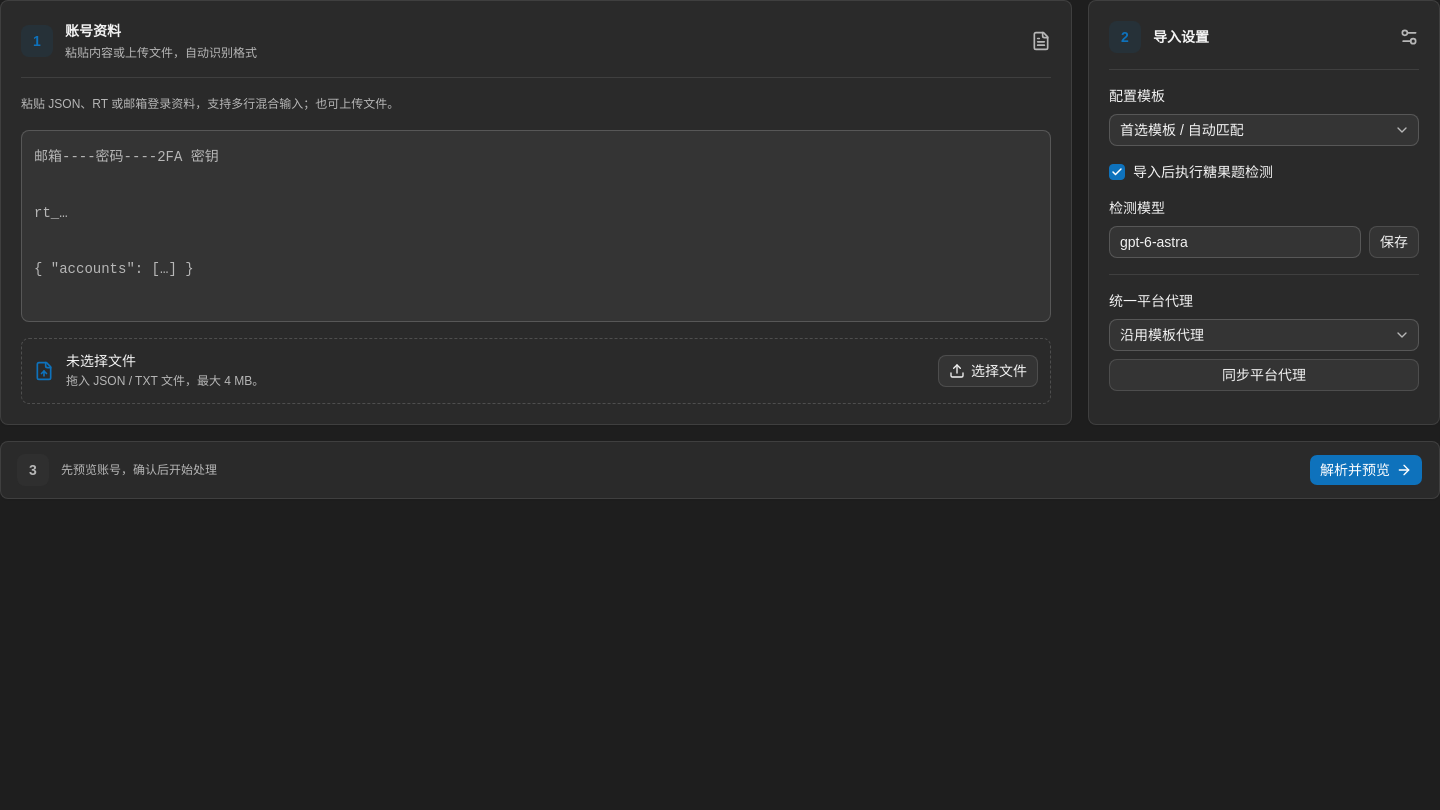
Test: 关闭糖果题检测后预览说明直接开启调度并提交对应设置
Click the checkbox named "导入后执行糖果题检测": (1117, 172) [1109, 164, 1125, 180]
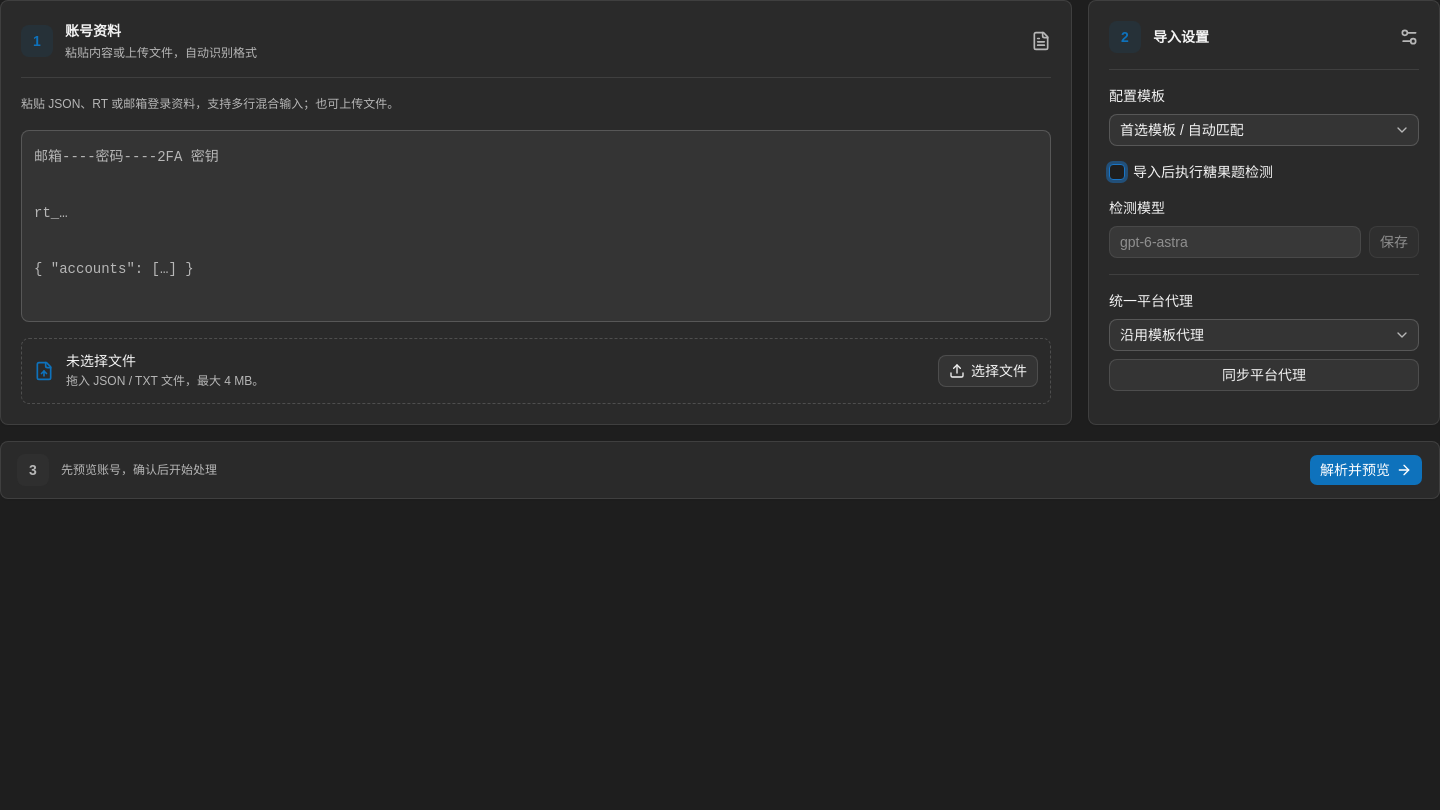
In the text box labelled "账号资料": (536, 226) [21, 130, 1051, 322], type "rt_input"
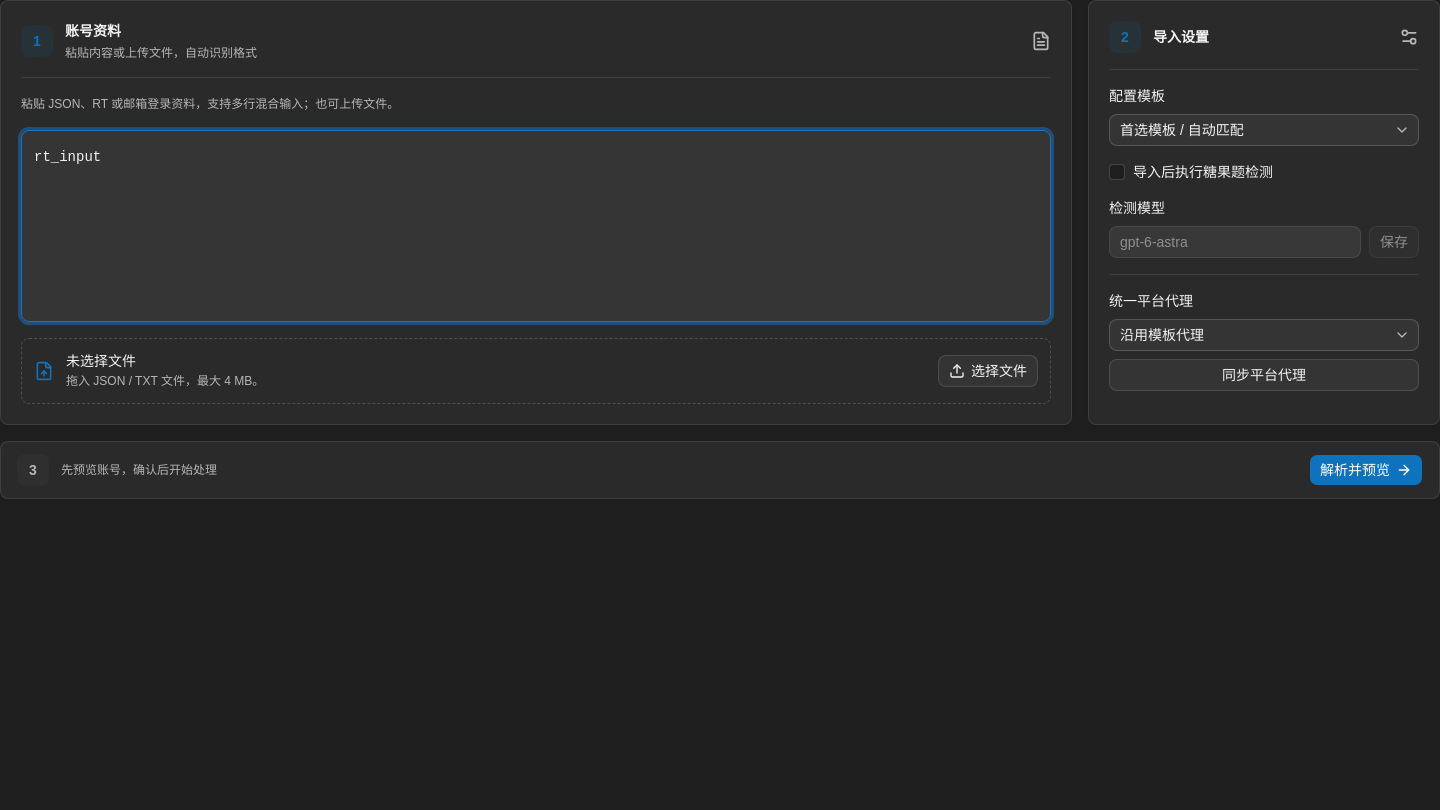
Click the button "解析并预览": (1366, 470) [1309, 454, 1423, 486]
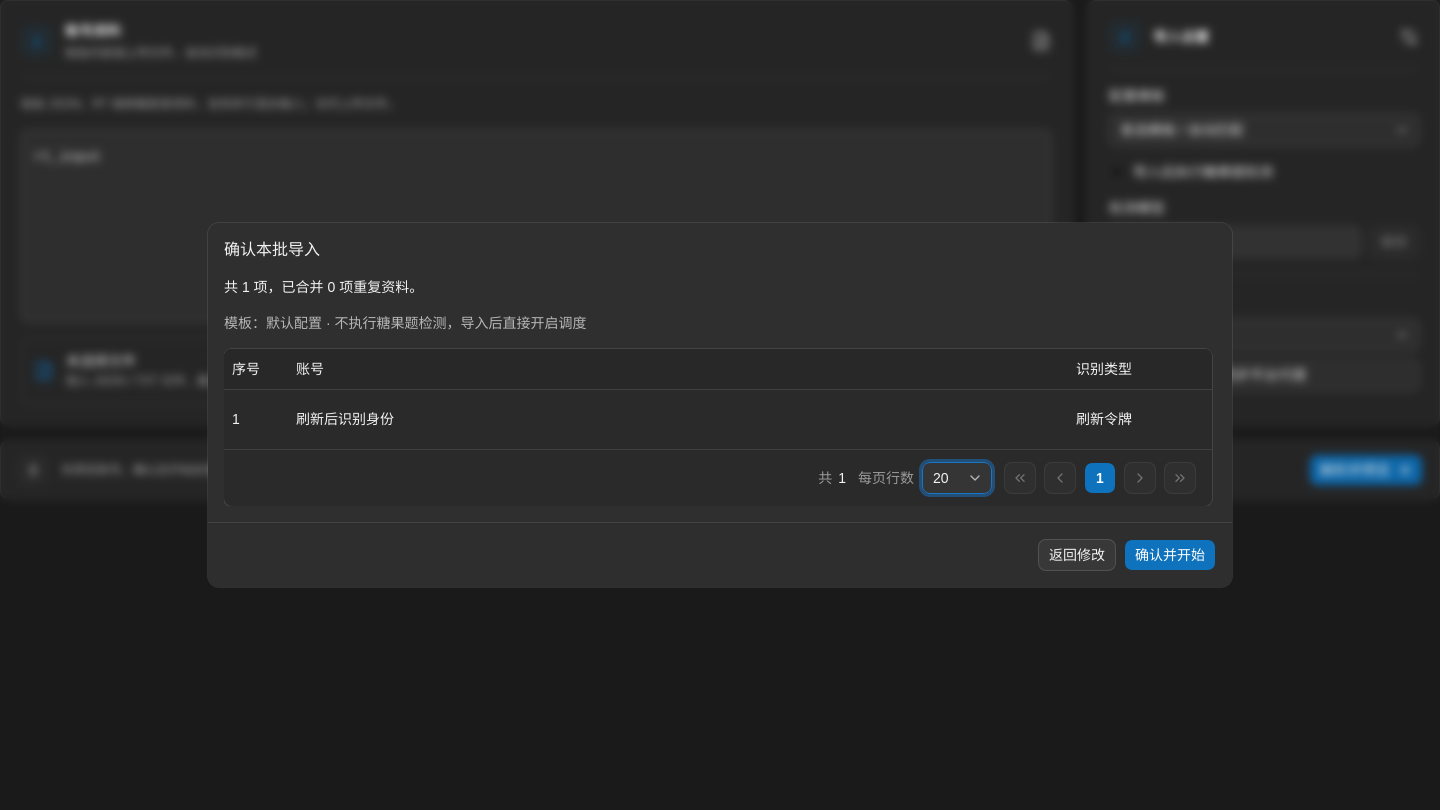
Result: the text "模板：默认配置 · 不执行糖果题检测，导入后直接开启调度" is shown at [224, 315, 586, 331]
